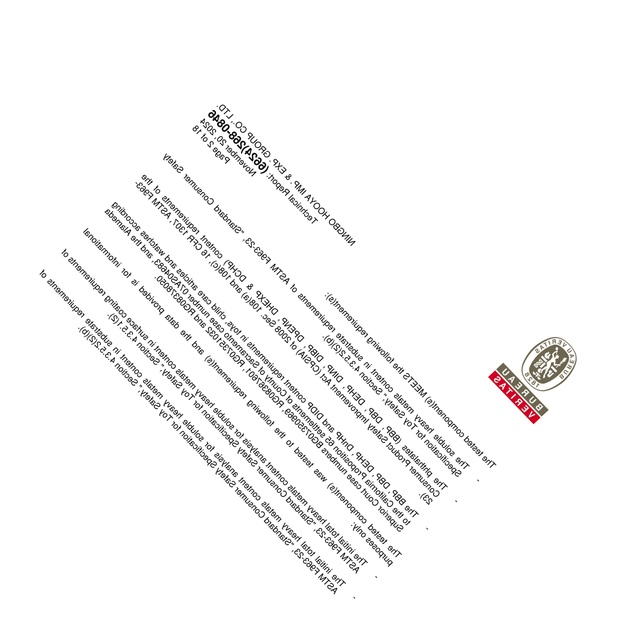bureau_veritas: (481, 332, 580, 428)
